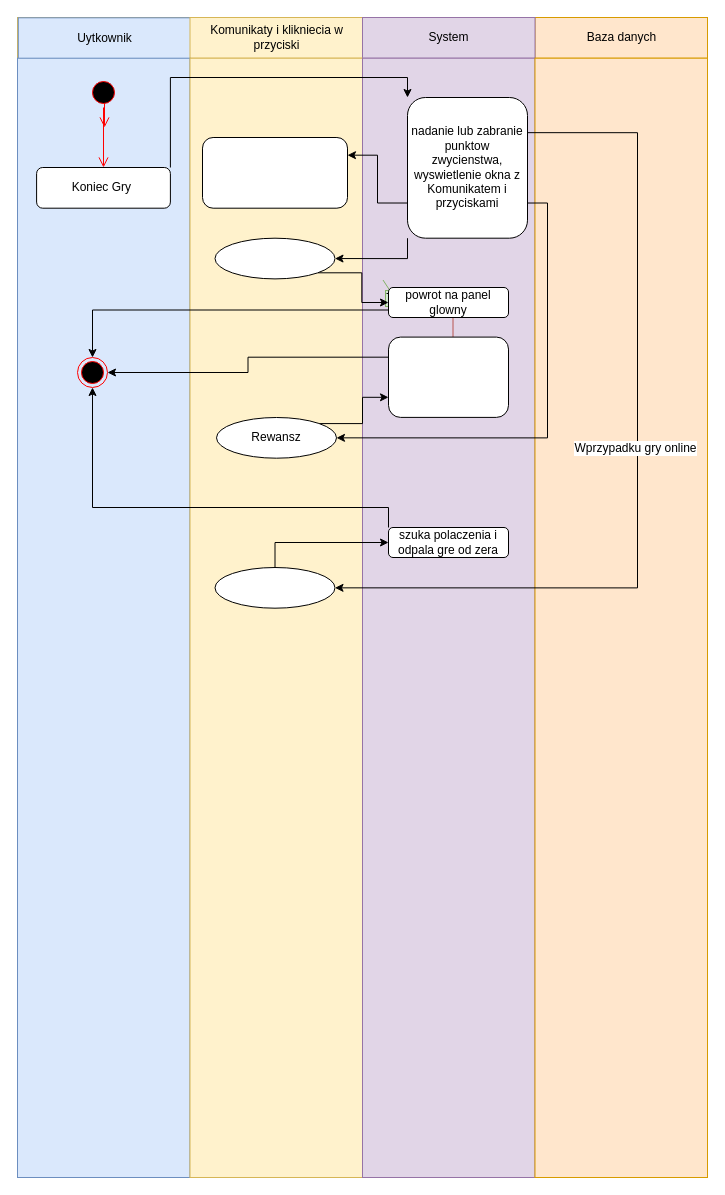
Image size: 725x1195. Some labels were removed from this diagram. The shapes that lost their labels are listed below. From the top down, each one's box as (x1, y1, x2, y2) in pixels, then its label:
(202, 136, 348, 208): "Zdobyles ## punkty" lub "Straciles ## punktow"
(214, 237, 335, 279): Zakończ gre
(388, 336, 508, 417): Odpalenie gry ponownie(w przypadku gry online rewansz ma kliknac dwa graczy)
(214, 566, 335, 608): Znajdz nastepna gre
